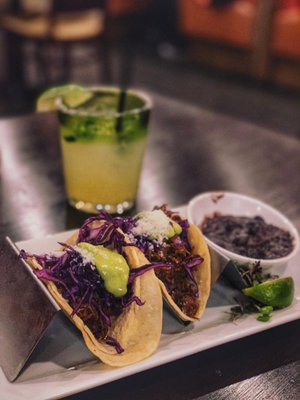pizza: (36, 83, 153, 218)
sushi: (187, 192, 300, 278)
